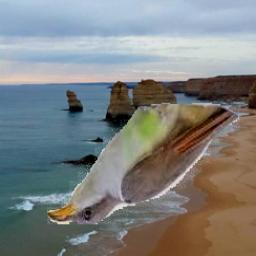Cuckoo: (47, 91, 240, 224)
